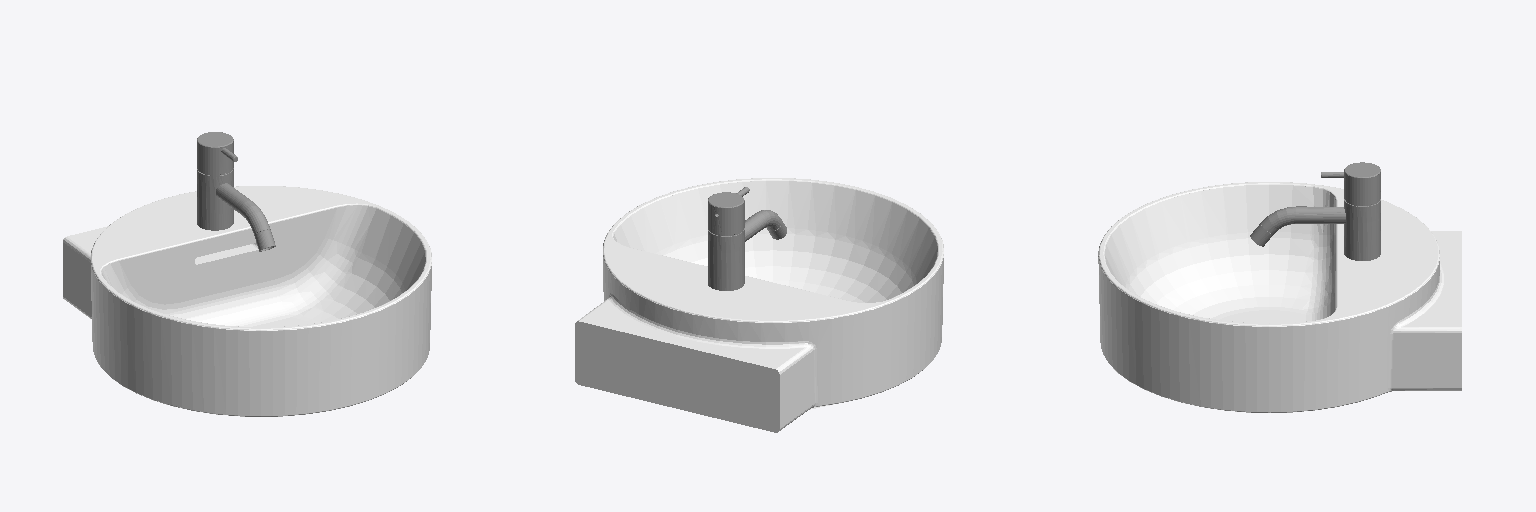
Rendered from Waschbecken.obj.
3 views of the same model, side by side, from view 1: azimuth 30°, elevation 25°; view 2: azimuth 150°, elevation 25°; view 3: azimuth 270°, elevation 25° (orthographic).
Parts seen in each view (by area): view 1: Mesh4 Component_207 G_23_Waschbckeb_Armatur_dwg1 Model, Mesh1 Component_206 WTA_05__CADT_PBIB__DESIGN_BAD_ARMATUREN_WASC; view 2: Mesh4 Component_207 G_23_Waschbckeb_Armatur_dwg1 Model, Mesh1 Component_206 WTA_05__CADT_PBIB__DESIGN_BAD_ARMATUREN_WASC; view 3: Mesh4 Component_207 G_23_Waschbckeb_Armatur_dwg1 Model, Mesh1 Component_206 WTA_05__CADT_PBIB__DESIGN_BAD_ARMATUREN_WASC.
Part boxes in pixels (x1,y1,x2,y2): Mesh4 Component_207 G_23_Waschbckeb_Armatur_dwg1 Model: (63,186,431,416); Mesh1 Component_206 WTA_05__CADT_PBIB__DESIGN_BAD_ARMATUREN_WASC: (197,132,275,251); Mesh4 Component_207 G_23_Waschbckeb_Armatur_dwg1 Model: (575,178,943,432); Mesh1 Component_206 WTA_05__CADT_PBIB__DESIGN_BAD_ARMATUREN_WASC: (708,187,786,290); Mesh4 Component_207 G_23_Waschbckeb_Armatur_dwg1 Model: (1098,182,1461,412); Mesh1 Component_206 WTA_05__CADT_PBIB__DESIGN_BAD_ARMATUREN_WASC: (1250,162,1380,260).
Bounding box in the file's own units: 38.96 × 21.73 × 41.4.